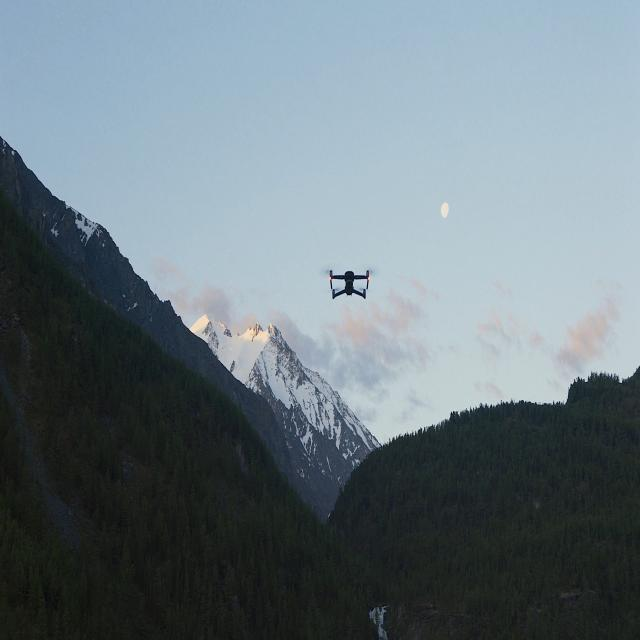Drone: (328, 267, 372, 297)
